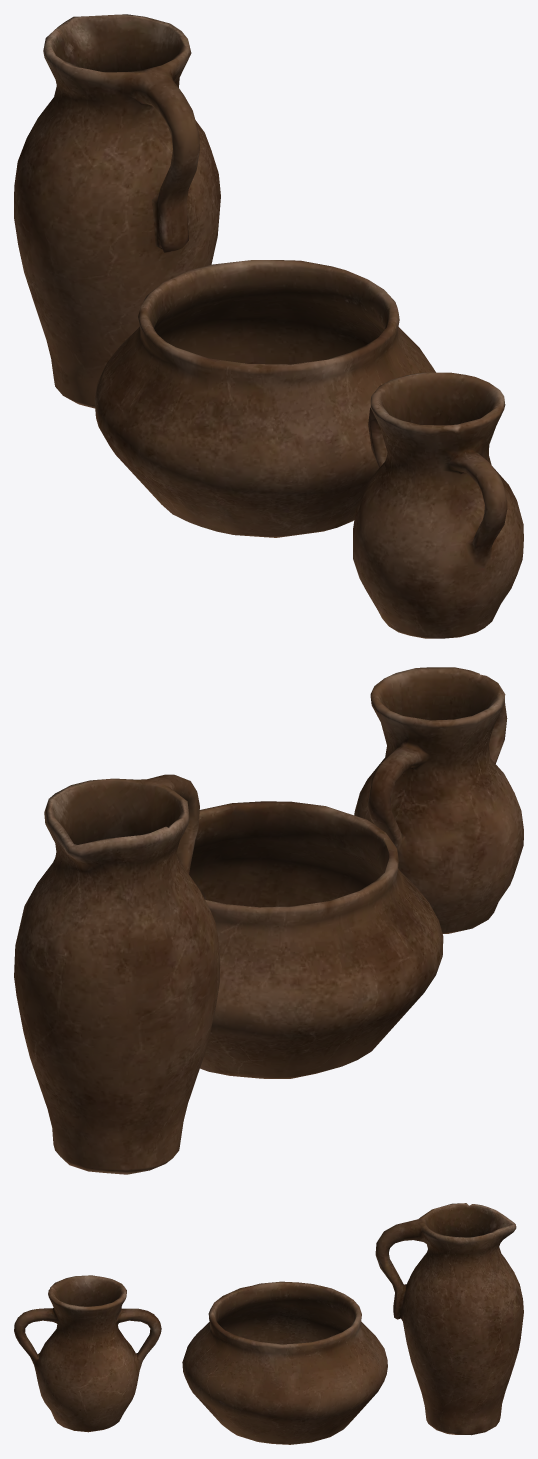
File: jarrones de barro.draco.glb
3 renders of one model, top to bottom at view 1: azimuth 30°, elevation 25°; view 2: azimuth 150°, elevation 25°; view 3: azimuth 270°, elevation 25°, orthographic. The views are drawn at different scales.
Parts seen in each view (by area): view 1: medieval_jugs_02, medieval_jugs_01, medieval_jugs_03; view 2: medieval_jugs_01, medieval_jugs_02, medieval_jugs_03; view 3: medieval_jugs_02, medieval_jugs_01, medieval_jugs_03.
Part boxes in pixels (x1,y1,x2,y2): medieval_jugs_02: [94, 260, 435, 537]; medieval_jugs_01: [14, 14, 220, 408]; medieval_jugs_03: [353, 372, 523, 638]; medieval_jugs_01: [14, 774, 220, 1174]; medieval_jugs_02: [189, 801, 443, 1078]; medieval_jugs_03: [354, 667, 523, 933]; medieval_jugs_02: [182, 1281, 387, 1444]; medieval_jugs_01: [375, 1203, 523, 1435]; medieval_jugs_03: [14, 1275, 161, 1432].
Size of the model in its own units: 0.3771 by 0.4098 by 0.9388.
Materials: 1 (1 with a texture image).
